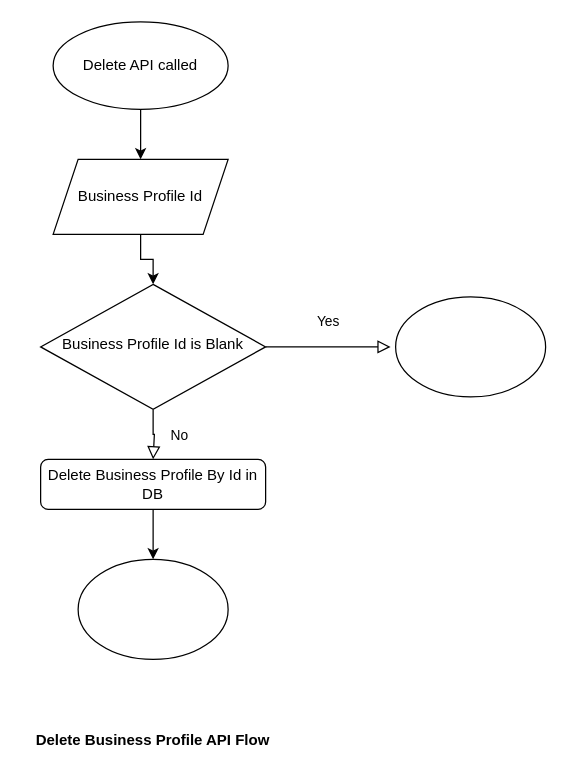
Image size: 568x781. Some labels were removed from this diagram. Each missing label, with the centre of its shape:
Return Error: (470,346)
Return Success Message: (152,608)
